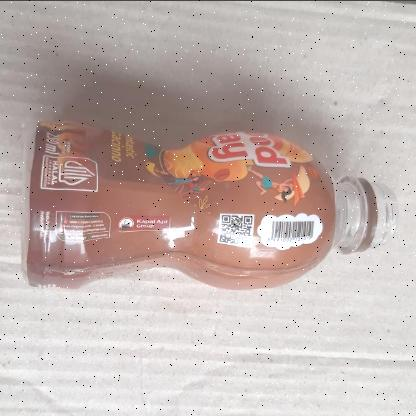Plastic Bottle: (1, 102, 404, 340)
